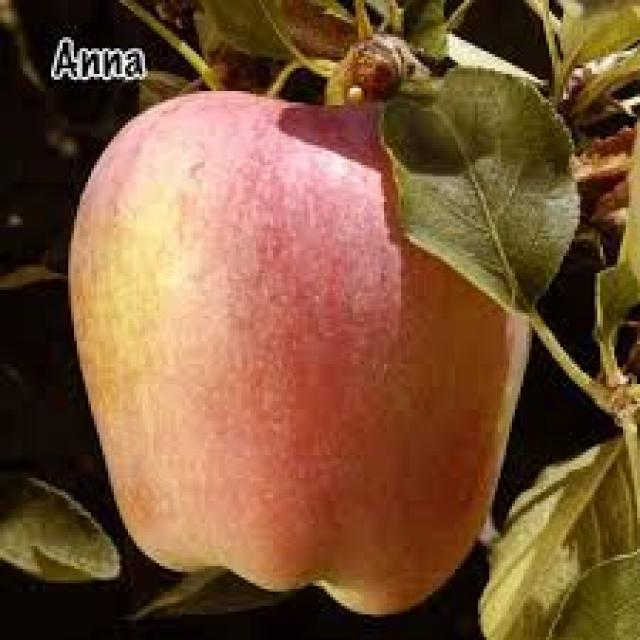organic waste: (60, 85, 532, 618), (381, 57, 578, 321)
